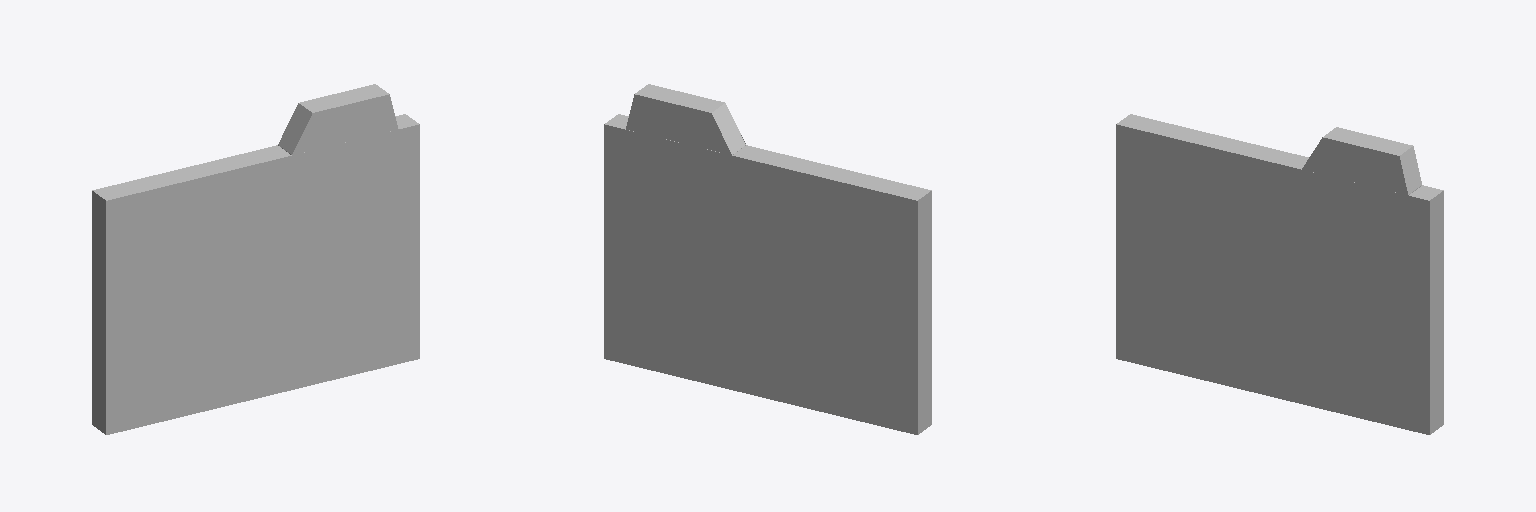
The model's file is zip.obj.
The picture shows the model from 3 angles: view 1: azimuth 30°, elevation 25°; view 2: azimuth 150°, elevation 25°; view 3: azimuth 330°, elevation 25°; orthographic projection.
Visible parts, largest first — view 1: polySurface13; view 2: polySurface13; view 3: polySurface13.
Boxes of the visible parts, x1,y1,x2,y2 form: polySurface13: [92, 84, 419, 434]; polySurface13: [604, 84, 931, 434]; polySurface13: [1116, 114, 1443, 434].
Size of the model in its own units: 10.33 by 8.57 by 0.8114.